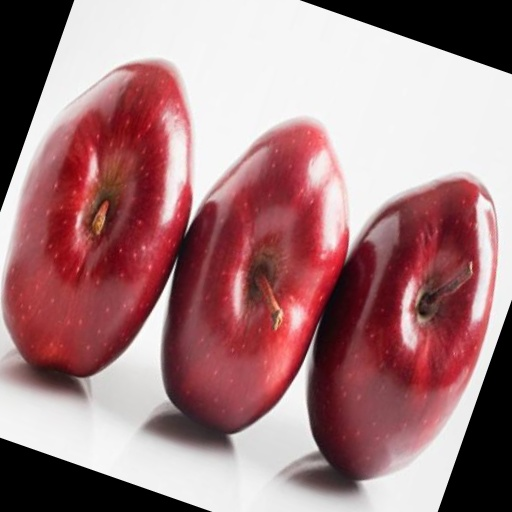fruit: (0, 102, 363, 512), (182, 121, 461, 502), (387, 228, 512, 512)
